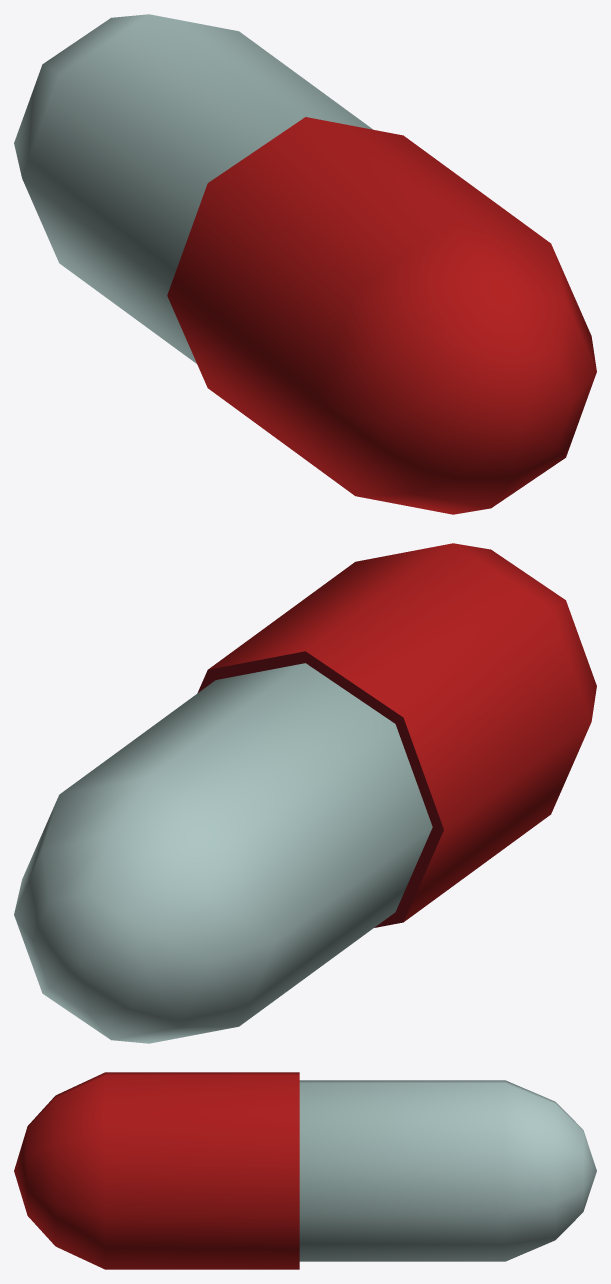
The model's file is human-household-items-pill_v1.glb.
The picture shows the model from 3 angles, top to bottom: view 1: azimuth 30°, elevation 25°; view 2: azimuth 150°, elevation 25°; view 3: azimuth 270°, elevation 25°; orthographic projection. The views are drawn at different scales.
Visible parts, largest first — view 1: Pill_v1; view 2: Pill_v1; view 3: Pill_v1.
Part boxes in pixels (x1,y1,x2,y2): Pill_v1: (14,14,596,514); Pill_v1: (14,543,596,1043); Pill_v1: (14,1072,596,1269).
Size of the model in its own units: 0.00721 by 0.00721 by 0.02.
